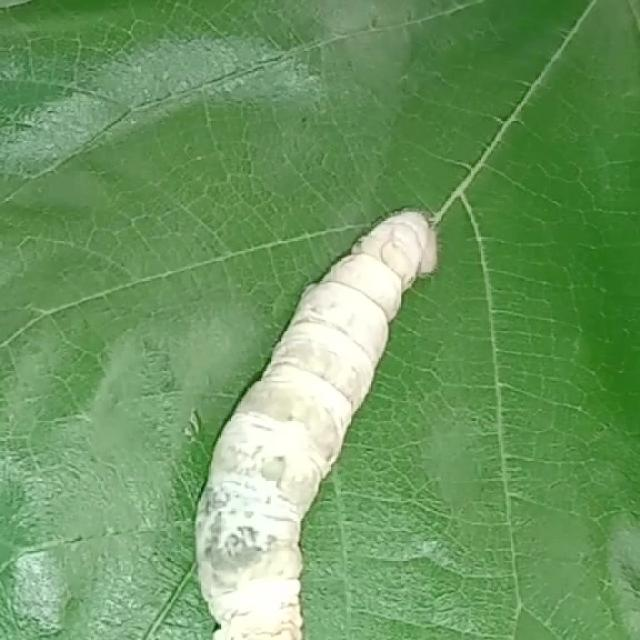Grasserie: (172, 182, 450, 640)
